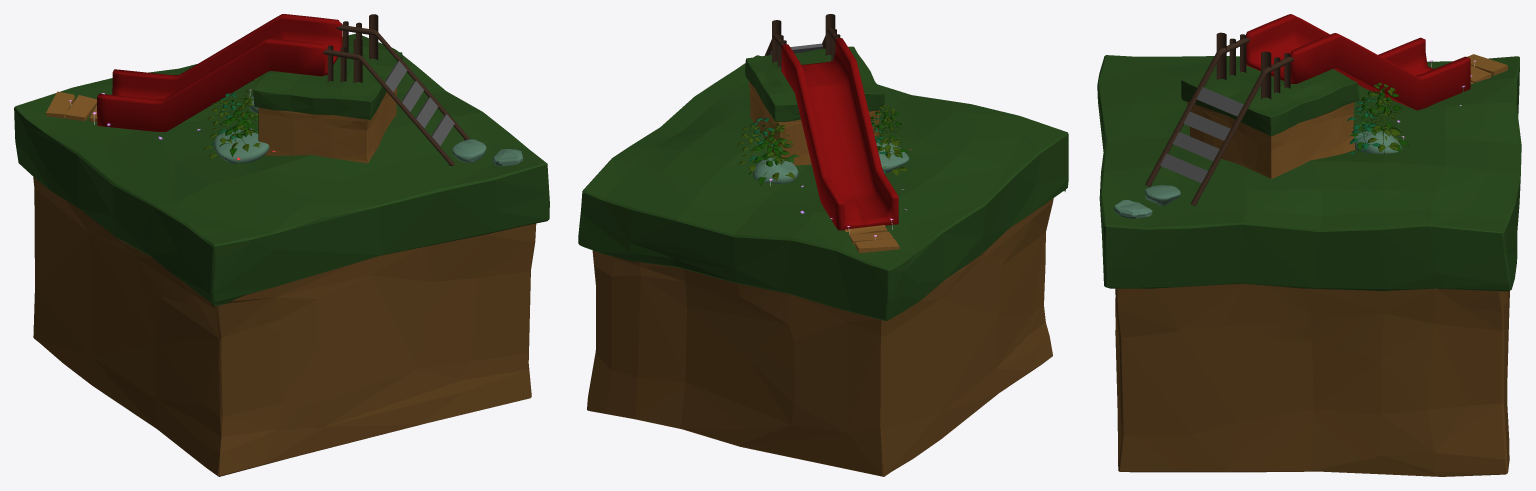
The model's file is tile_slide.gltf.
3 renders of one model, left to right at view 1: azimuth 30°, elevation 25°; view 2: azimuth 150°, elevation 25°; view 3: azimuth 270°, elevation 25°, orthographic. The views are drawn at different scales.
Visible parts, largest first — view 1: hill.004, slide complete; view 2: hill.004, slide complete; view 3: hill.004, slide complete.
Part boxes in pixels (box(x1,y1,x2,y2)): hill.004: box(14, 33, 549, 476); slide complete: box(46, 14, 523, 166); hill.004: box(578, 55, 1068, 476); slide complete: box(737, 14, 911, 253); hill.004: box(1097, 55, 1521, 476); slide complete: box(1114, 14, 1507, 218).
Bounding box in the file's own units: 1.07 × 1.07 × 1.09.
